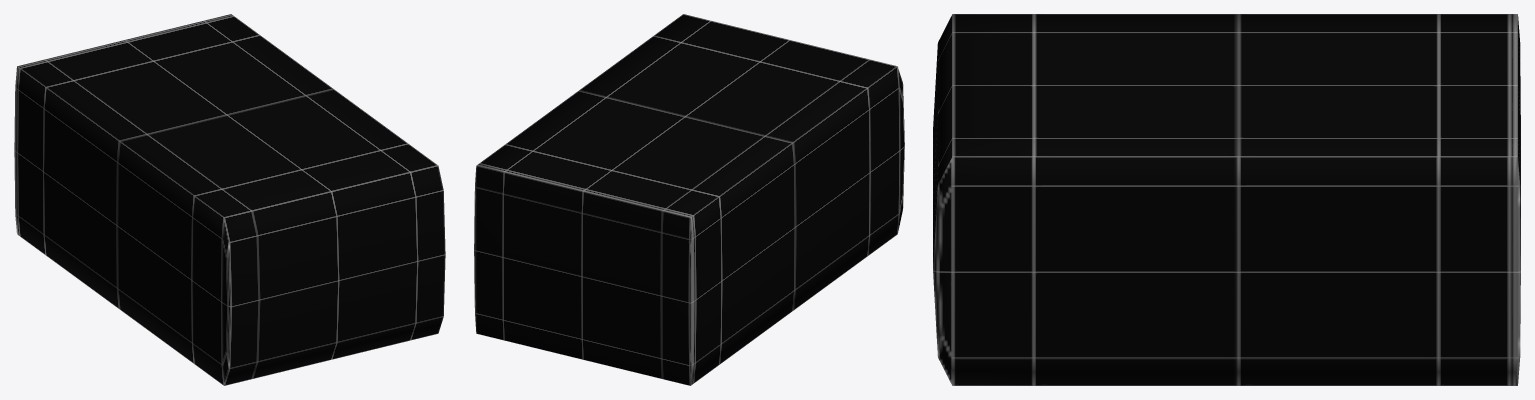
Rendered from Butter.fbx.
3 views of the same model, side by side, from view 1: azimuth 30°, elevation 25°; view 2: azimuth 150°, elevation 25°; view 3: azimuth 270°, elevation 25° (orthographic). The views are drawn at different scales.
Visible parts, largest first — view 1: pCube7; view 2: pCube7; view 3: pCube7.
Part boxes in pixels (bbox=[...]): pCube7: bbox=[14, 14, 445, 385]; pCube7: bbox=[474, 14, 904, 385]; pCube7: bbox=[933, 14, 1520, 385].
Bounding box in the file's own units: 8.66 × 6.36 × 14.78.
